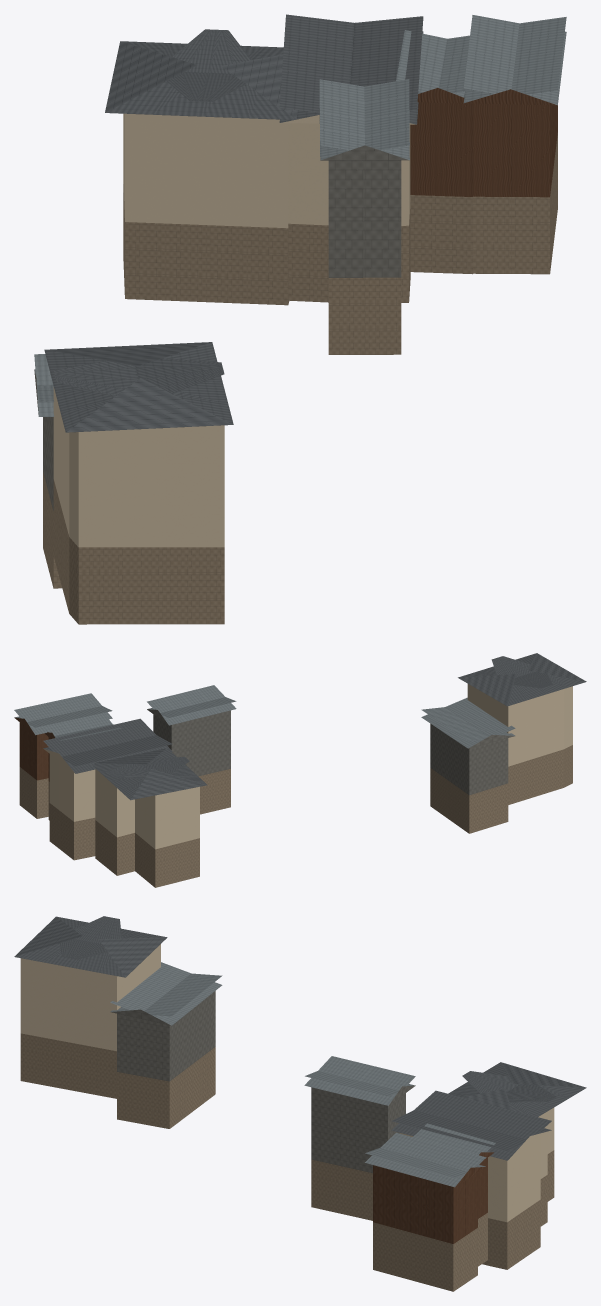
Rendered from bld_c41_-47_461.gltf.
3 renders of one model, top to bottom at view 1: azimuth 30°, elevation 25°; view 2: azimuth 150°, elevation 25°; view 3: azimuth 270°, elevation 25°, orthographic. The views are drawn at different scales.
Visible parts, largest first — view 1: bld_c41_-47_461; view 2: bld_c41_-47_461; view 3: bld_c41_-47_461.
Part boxes in pixels (left/top/right/bottom): bld_c41_-47_461: left=34, top=14, right=566, bottom=624; bld_c41_-47_461: left=14, top=653, right=586, bottom=887; bld_c41_-47_461: left=14, top=916, right=586, bottom=1291.
Size of the model in its own units: 57.04 by 16.6 by 55.59.
Materials: 9 (9 with a texture image).
